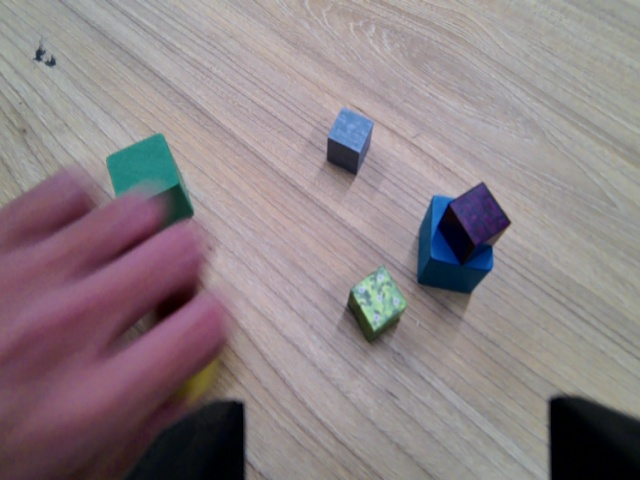brick: (435, 175, 513, 269)
grass: (345, 263, 410, 346)
stone: (323, 104, 377, 178)
